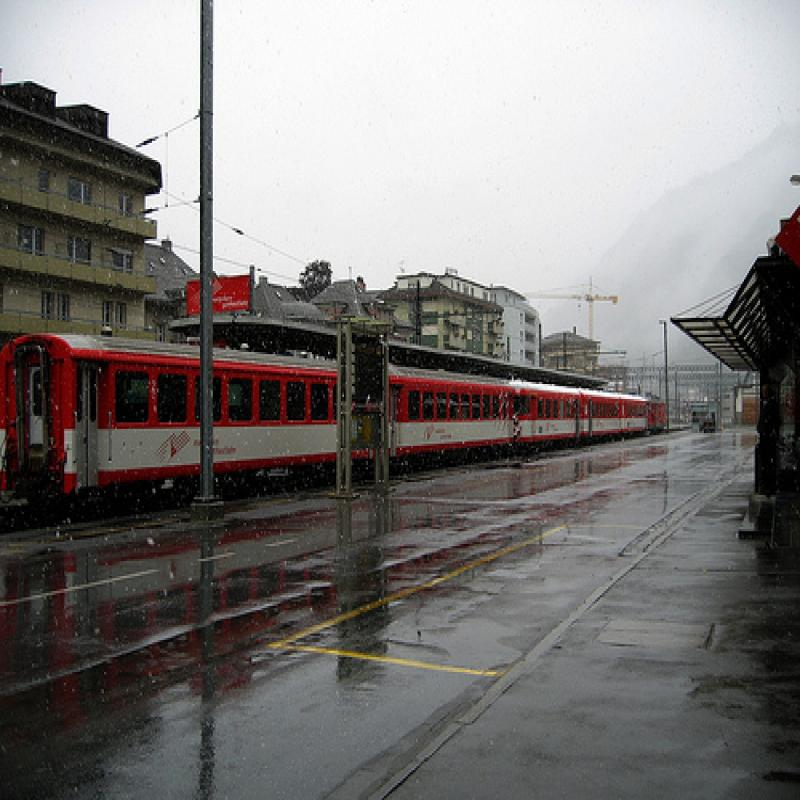train: (1, 330, 668, 532)
